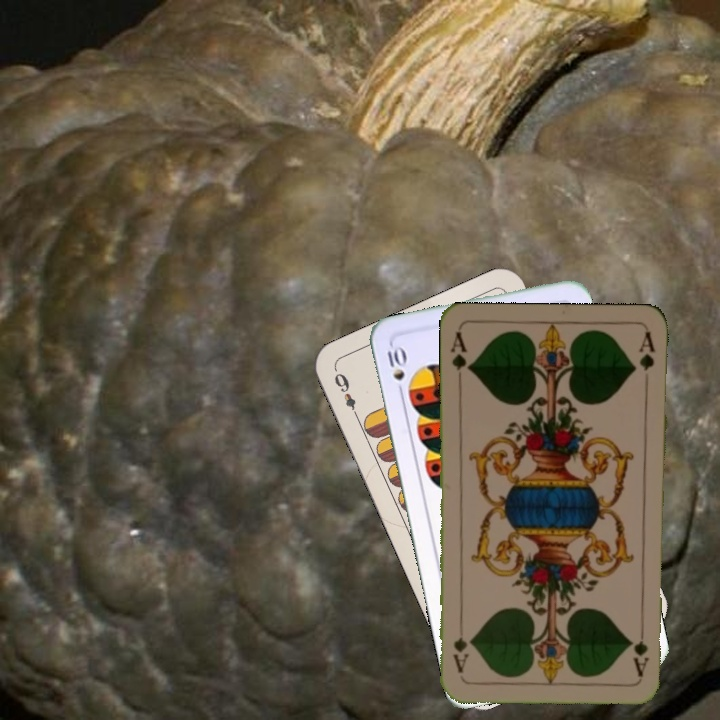E9: (330, 366, 362, 422)
GA: (447, 328, 474, 387), (630, 619, 651, 678)
S10: (383, 341, 408, 400)
